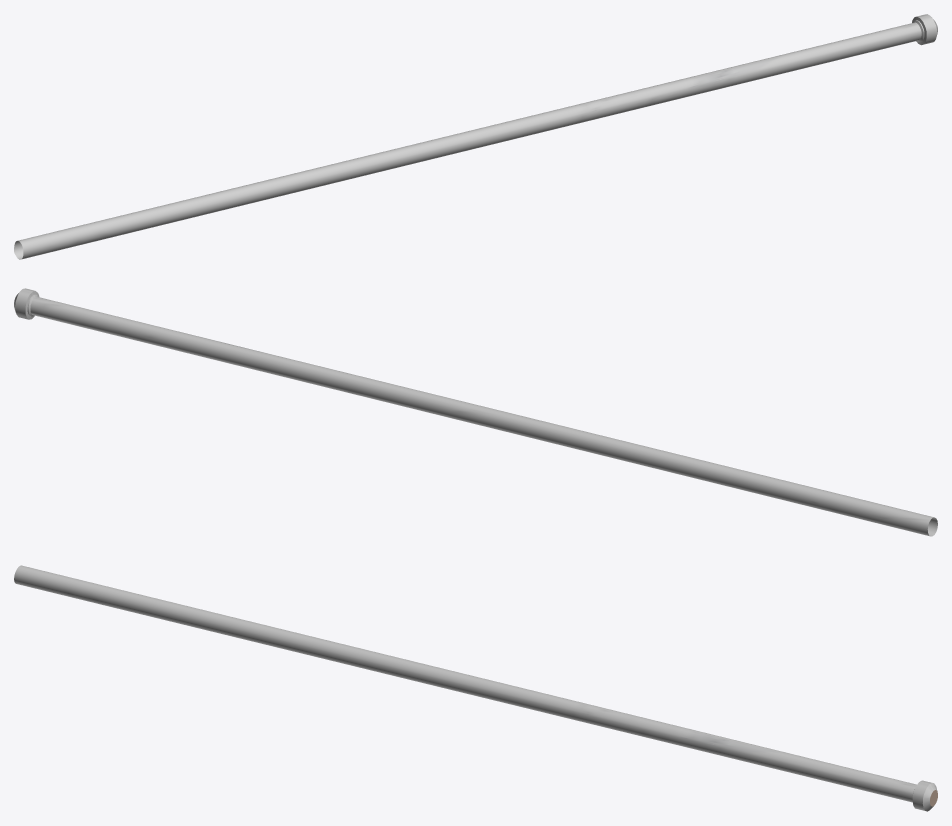
File: V1CTrack_temp.fbx
3 renders of one model, top to bottom at view 1: azimuth 30°, elevation 25°; view 2: azimuth 150°, elevation 25°; view 3: azimuth 330°, elevation 25°, orthographic.
Parts seen in each view (by area): view 1: V1C_Track_temp; view 2: V1C_Track_temp; view 3: V1C_Track_temp.
Part boxes in pixels (left/top/right/bottom): V1C_Track_temp: left=14, top=14, right=937, bottom=259; V1C_Track_temp: left=14, top=288, right=937, bottom=536; V1C_Track_temp: left=14, top=565, right=937, bottom=811.
Size of the model in its own units: 32.94 by 0.9138 by 0.9036.
